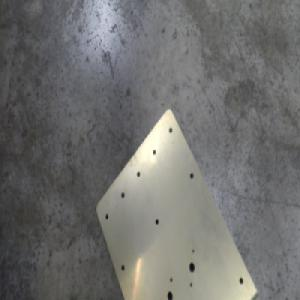MetalSheet: (94, 103, 259, 300)
